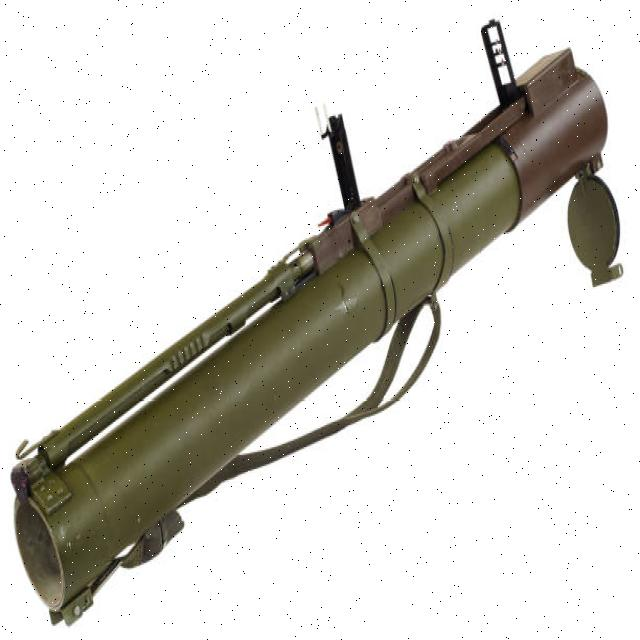bazooka: (5, 13, 625, 633)
